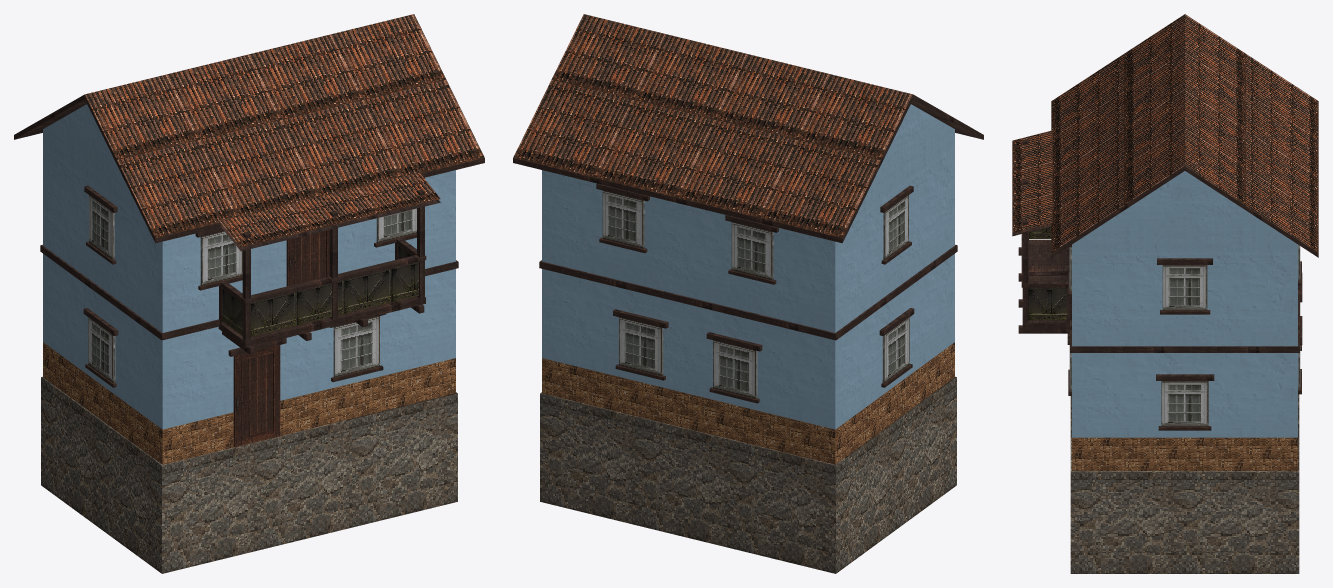
Rendered from 12_andina2p_celeste_balcon.glb.
The picture shows the model from 3 angles, left to right: view 1: azimuth 30°, elevation 25°; view 2: azimuth 150°, elevation 25°; view 3: azimuth 270°, elevation 25°; orthographic projection. The views are drawn at different scales.
Visible parts, largest first — view 1: 12_andina2p_celeste_balcon; view 2: 12_andina2p_celeste_balcon; view 3: 12_andina2p_celeste_balcon.
Boxes of the visible parts, x1,y1,x2,y2 form: 12_andina2p_celeste_balcon: (14,14,484,573); 12_andina2p_celeste_balcon: (513,14,983,573); 12_andina2p_celeste_balcon: (1012,14,1318,573).
Size of the model in its own units: 7.64 by 9.74 by 6.51.
Materials: 8 (8 with a texture image).
